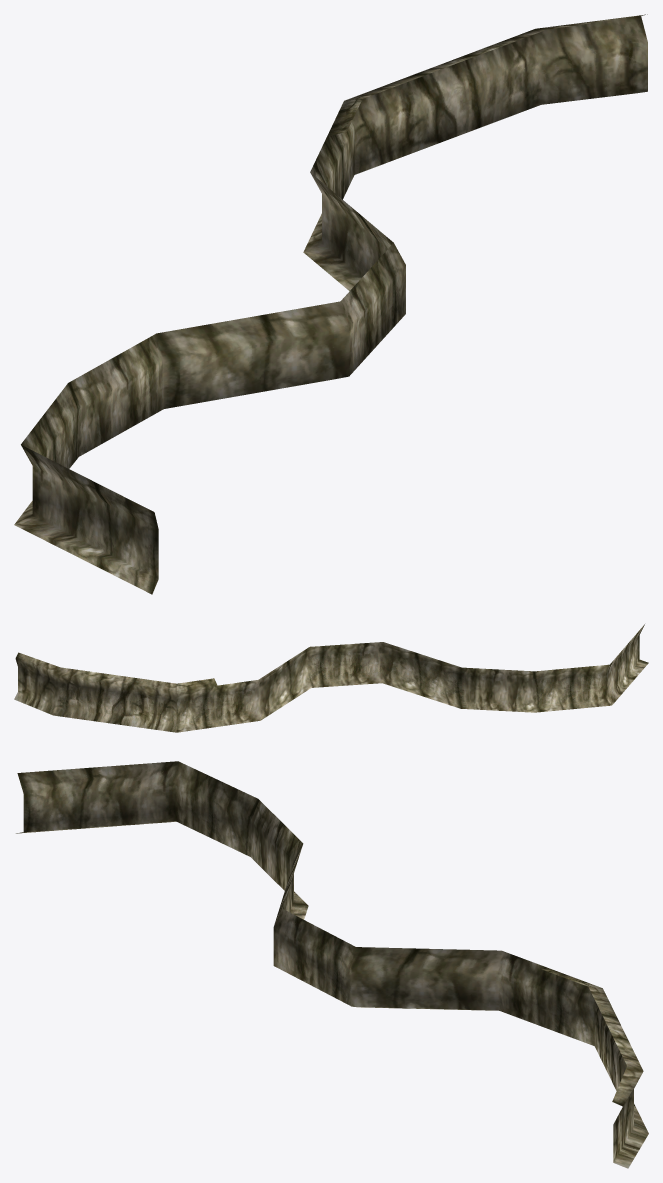
Rendered from CB_NEWPLAYSURFACE_CB_PLAYSURFACE147.fbx.
The picture shows the model from 3 angles, top to bottom: view 1: azimuth 30°, elevation 25°; view 2: azimuth 150°, elevation 25°; view 3: azimuth 270°, elevation 25°; orthographic projection. The views are drawn at different scales.
Visible parts, largest first — view 1: CB_NEWPLAYSURFACE_CB_PLAYSURFACE147; view 2: CB_NEWPLAYSURFACE_CB_PLAYSURFACE147; view 3: CB_NEWPLAYSURFACE_CB_PLAYSURFACE147.
Boxes of the visible parts, bbox=[...] form: CB_NEWPLAYSURFACE_CB_PLAYSURFACE147: bbox=[14, 14, 647, 594]; CB_NEWPLAYSURFACE_CB_PLAYSURFACE147: bbox=[14, 624, 648, 732]; CB_NEWPLAYSURFACE_CB_PLAYSURFACE147: bbox=[16, 761, 648, 1168].
Bounding box in the file's own units: 332454 × 30067 × 256475.
1 material, 1 textured.
